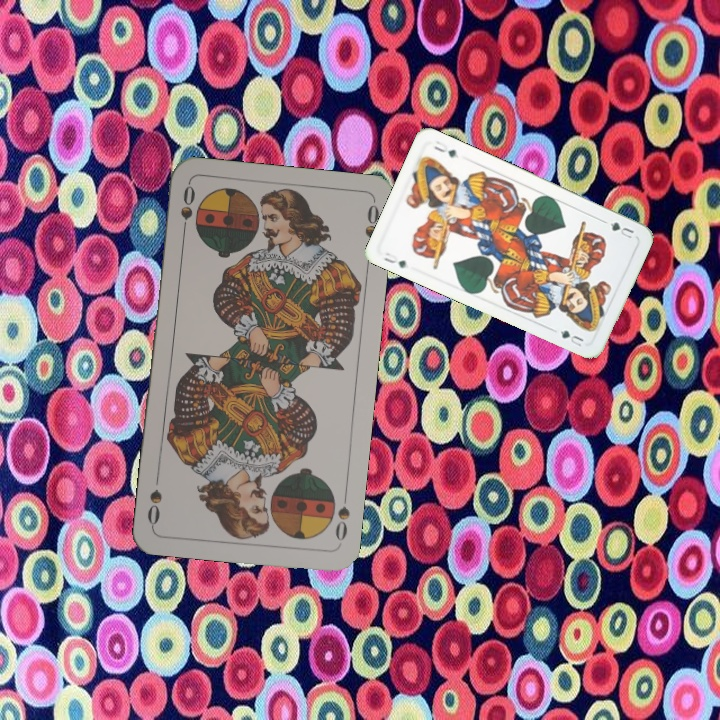GU: (606, 218, 636, 241), (379, 248, 409, 271)
SO: (176, 181, 198, 240), (331, 488, 352, 543)
